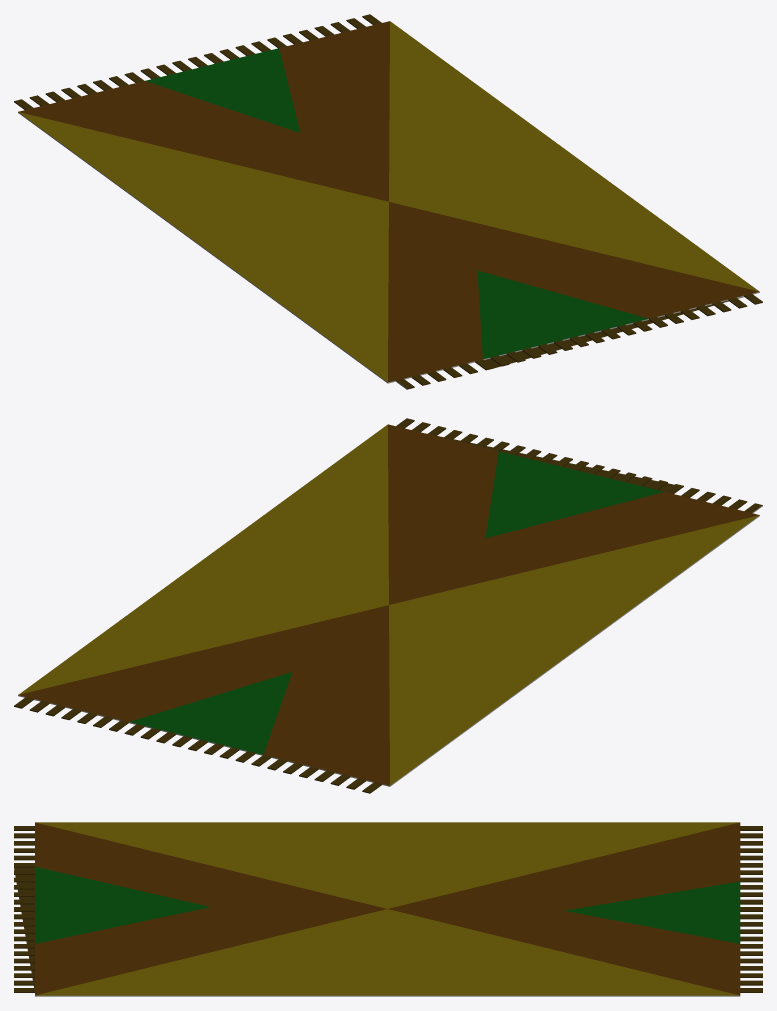
The model's file is Alfombra.fbx.
The picture shows the model from 3 angles, top to bottom: view 1: azimuth 30°, elevation 25°; view 2: azimuth 150°, elevation 25°; view 3: azimuth 270°, elevation 25°; orthographic projection. The views are drawn at different scales.
Parts seen in each view (by area): view 1: pCube1; view 2: pCube1; view 3: pCube1.
Boxes of the visible parts, box(x1,y1,x2,y2) form: pCube1: box(14, 14, 762, 389); pCube1: box(14, 418, 762, 793); pCube1: box(14, 822, 762, 996).
Size of the model in its own units: 130 by 0.3842 by 238.
